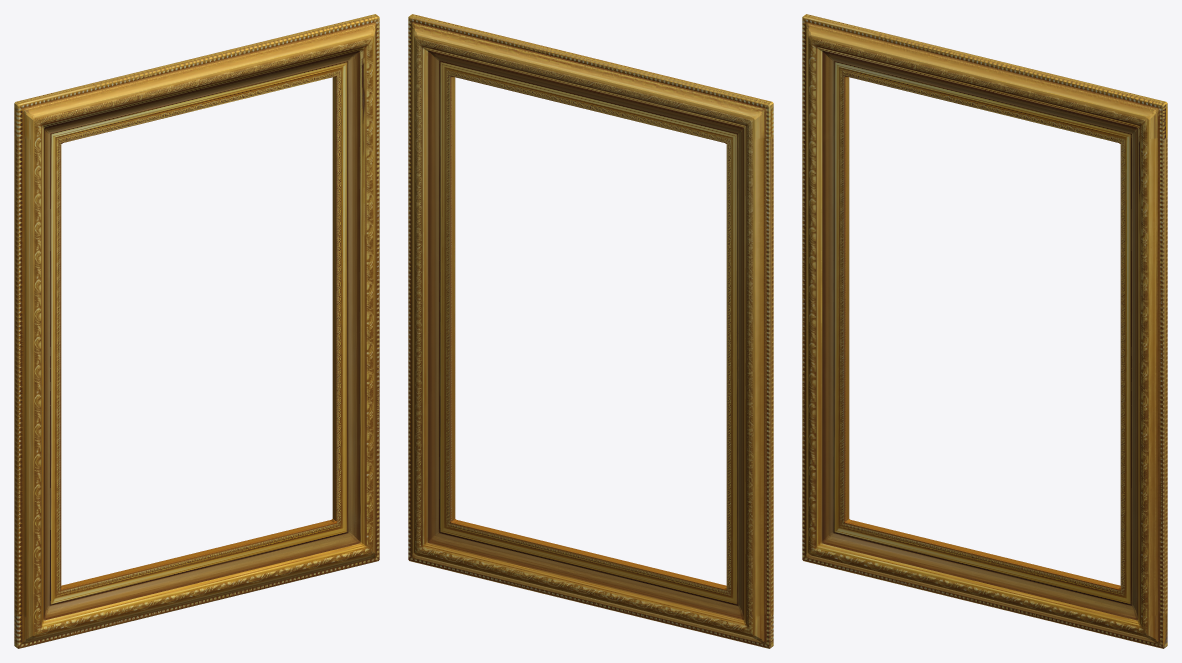
Rendered from Frame.fbx.
The picture shows the model from 3 angles, left to right: view 1: azimuth 30°, elevation 25°; view 2: azimuth 150°, elevation 25°; view 3: azimuth 330°, elevation 25°; orthographic projection.
Parts seen in each view (by area): view 1: temp; view 2: temp; view 3: temp.
Boxes of the visible parts, x1,y1,x2,y2 form: temp: (14,14,379,648); temp: (408,14,773,648); temp: (802,14,1167,648).
Size of the model in its own units: 133 by 191 by 9.
Materials: 1 (1 with a texture image).
